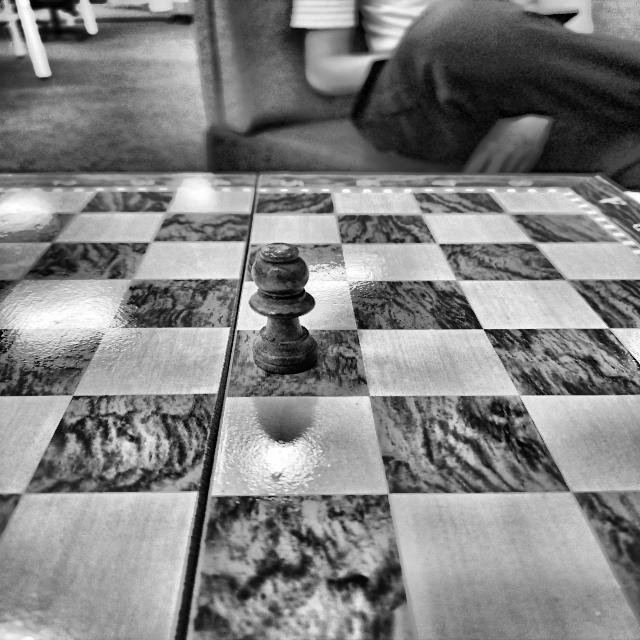black-bishop: (251, 243, 318, 374)
